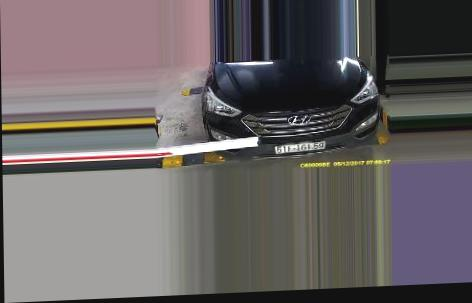License_Plate: (272, 140, 326, 156)
